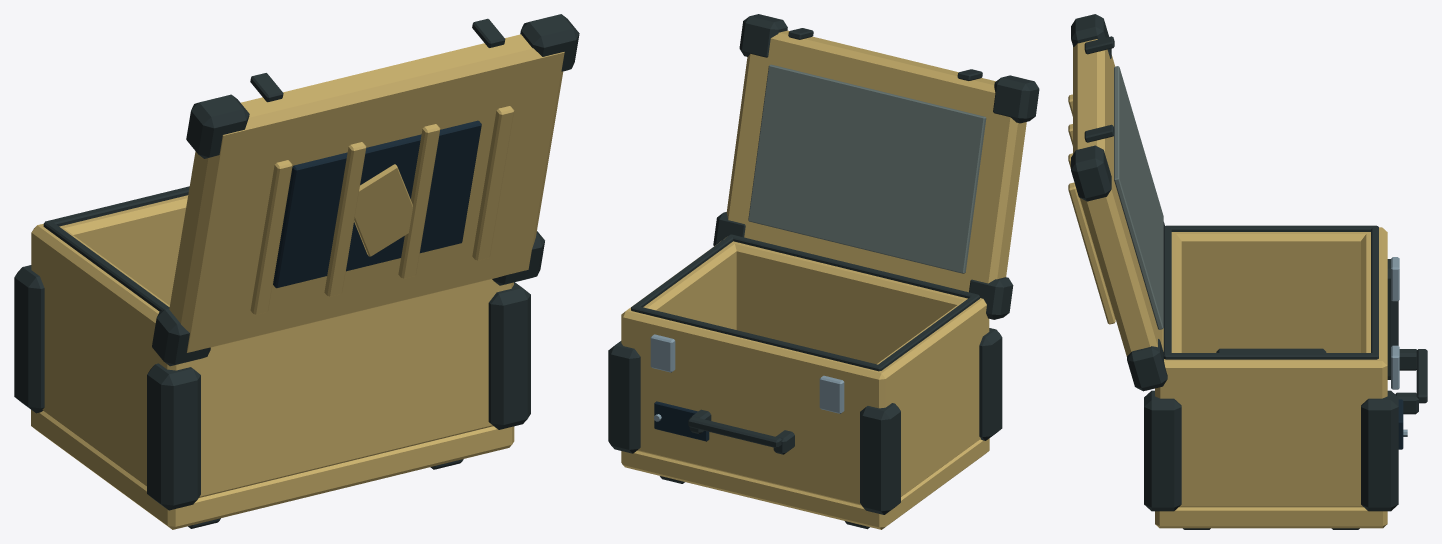
File: battery_module_crate_opened.glb
3 renders of one model, left to right at view 1: azimuth 30°, elevation 25°; view 2: azimuth 150°, elevation 25°; view 3: azimuth 270°, elevation 25°, orthographic. The views are drawn at different scales.
Visible parts, largest first — view 1: moving_lid, body_back_wall, body_side_wall, corner_pad (×3), moving_lid_identity, body_floor, moving_rib (×4), moving_corner_cap (×4), body_front_wall, moving_power_mark, rim_seal (×2); view 2: moving_lid_pad, body_front_wall, moving_lid, body_side_wall (×2), body_back_wall, corner_pad (×3), body_floor, rim_seal (×4), moving_corner_cap (×4), latch_base (×2), power_id_plate, front_carry_grip; view 3: body_side_wall (×2), moving_lid, corner_pad (×3), moving_lid_pad, rim_seal (×4), body_floor, moving_corner_cap (×3), body_front_wall, body_back_wall, moving_rib, front_carry_grip, interior_module_socket.
Boxes of the visible parts, x1=… form: moving_lid: x1=169, y1=34, x2=564, y2=352; body_back_wall: x1=161, y1=279, x2=510, y2=497; body_side_wall: x1=31, y1=224, x2=193, y2=486; corner_pad (×3): x1=14, y1=265, x2=530, y2=510; moving_lid_identity: x1=273, y1=120, x2=481, y2=288; body_floor: x1=31, y1=410, x2=514, y2=529; moving_rib (×4): x1=250, y1=106, x2=514, y2=314; moving_corner_cap (×4): x1=152, y1=14, x2=579, y2=366; body_front_wall: x1=31, y1=195, x2=188, y2=305; moving_power_mark: x1=354, y1=164, x2=412, y2=256; rim_seal (×2): x1=43, y1=186, x2=189, y2=311; moving_lid_pad: x1=748, y1=64, x2=986, y2=273; body_front_wall: x1=623, y1=311, x2=892, y2=505; moving_lid: x1=726, y1=30, x2=1026, y2=292; body_side_wall (×2): x1=621, y1=241, x2=989, y2=496; body_back_wall: x1=734, y1=242, x2=989, y2=364; corner_pad (×3): x1=608, y1=328, x2=1002, y2=514; body_floor: x1=621, y1=438, x2=989, y2=529; rim_seal (×4): x1=631, y1=234, x2=979, y2=371; moving_corner_cap (×4): x1=713, y1=14, x2=1039, y2=319; latch_base (×2): x1=650, y1=334, x2=844, y2=413; power_id_plate: x1=654, y1=401, x2=709, y2=441; front_carry_grip: x1=688, y1=416, x2=781, y2=448; body_side_wall (×2): x1=1155, y1=227, x2=1387, y2=507; moving_lid: x1=1073, y1=39, x2=1162, y2=356; corner_pad (×3): x1=1144, y1=259, x2=1398, y2=511; moving_lid_pad: x1=1114, y1=66, x2=1163, y2=329; rim_seal (×4): x1=1163, y1=225, x2=1378, y2=359; body_floor: x1=1155, y1=507, x2=1387, y2=528; moving_corner_cap (×3): x1=1071, y1=14, x2=1167, y2=391; body_front_wall: x1=1361, y1=227, x2=1387, y2=399; body_back_wall: x1=1160, y1=232, x2=1181, y2=399; moving_rib: x1=1068, y1=182, x2=1115, y2=324; front_carry_grip: x1=1416, y1=349, x2=1427, y2=403; interior_module_socket: x1=1216, y1=348, x2=1326, y2=352.
Bounding box in the file's own units: 1.13 × 1.38 × 1.14.
